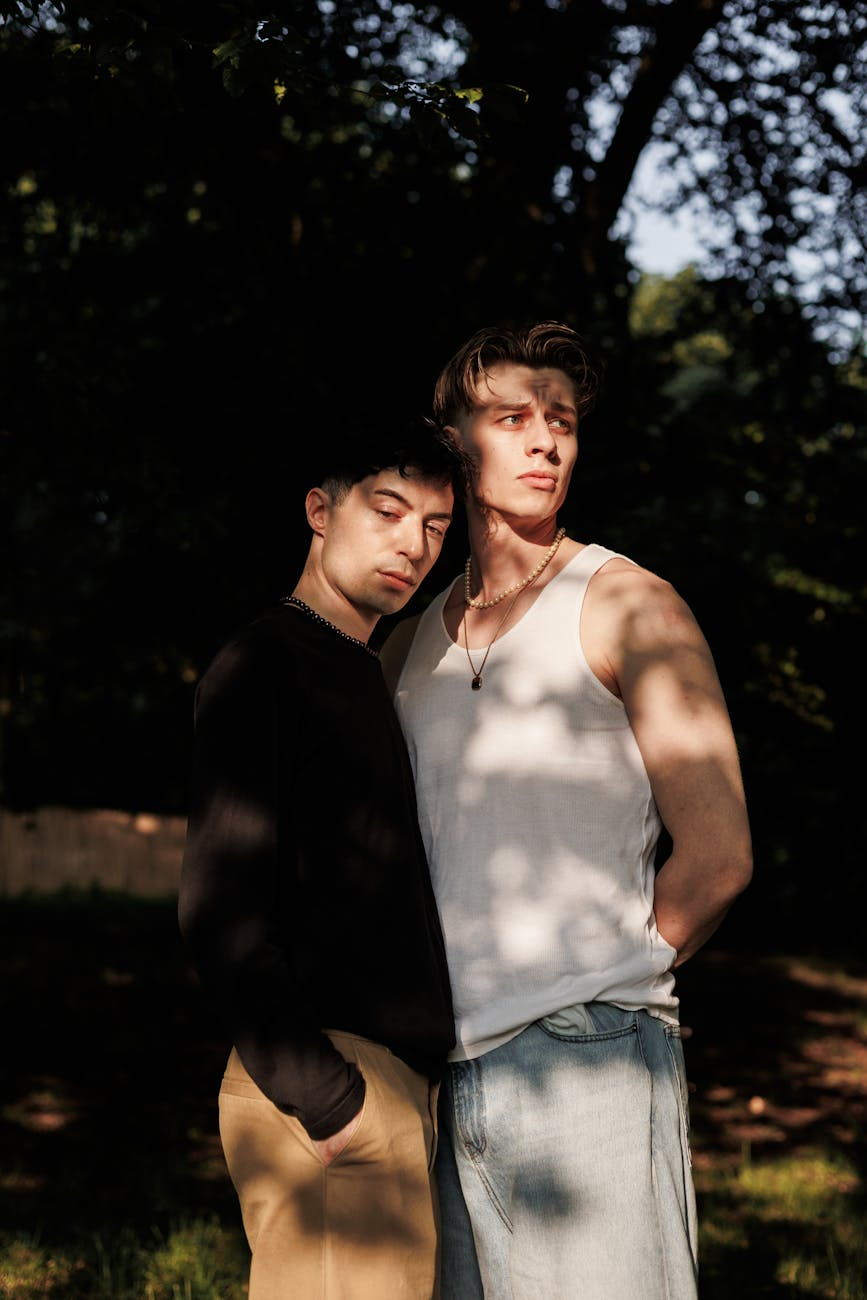sleeveless_top: (354, 558, 700, 1000)
